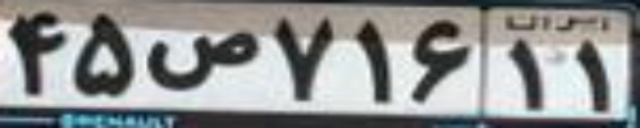1: (354, 19, 393, 101), (571, 39, 611, 111), (505, 38, 540, 108)
4: (6, 10, 61, 94)
5: (73, 15, 139, 95)
6: (403, 19, 469, 103)
7: (270, 15, 336, 101)
saat: (146, 30, 261, 91)
